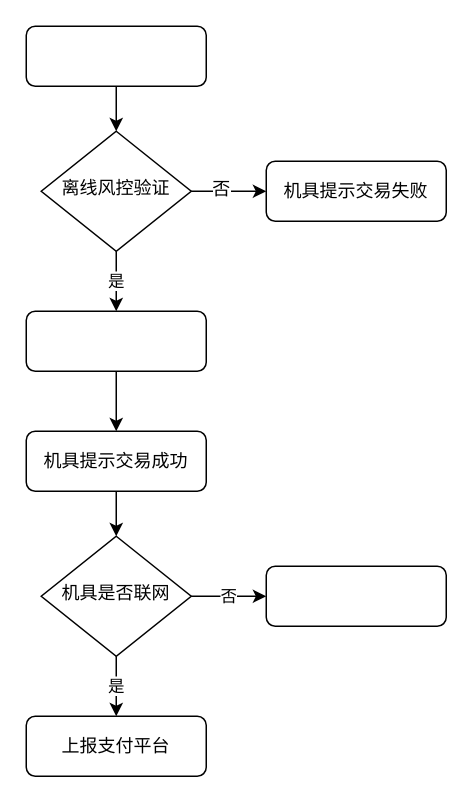
This 473x803 diagram has some shape labels left out. The box of each missing label's shape, as (x1, y1, x2, y2) in pixels:
待联网后上报: (265, 565, 446, 626)
用户刷卡: (25, 25, 206, 86)
订单本地存储: (25, 310, 206, 371)
